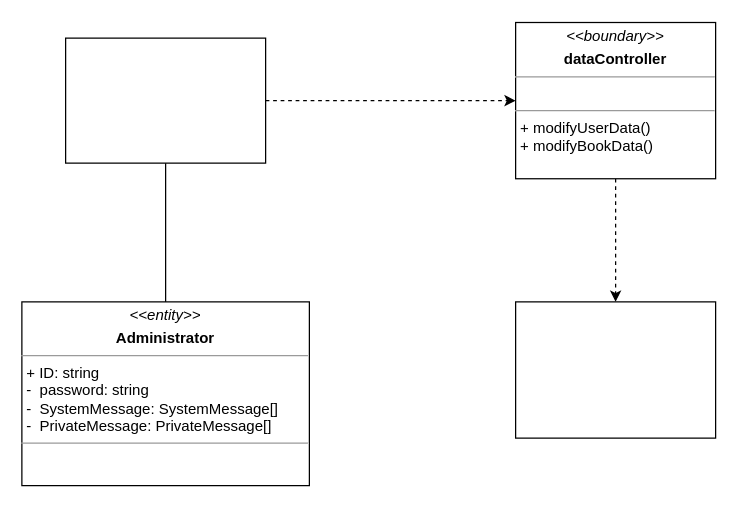
The diagram is 738 pixels wide and 508 high, and some of its shapes have lost their labels. The shapes that lost their labels are listed below. From the top down, each one's centre as x and y in pixels, then its label:
At [165,100]: "<<boundary>> dataWindow + showData()".
At [615,369]: "<<entity>> Data - UserData: User[] - BookData: Book[]".
